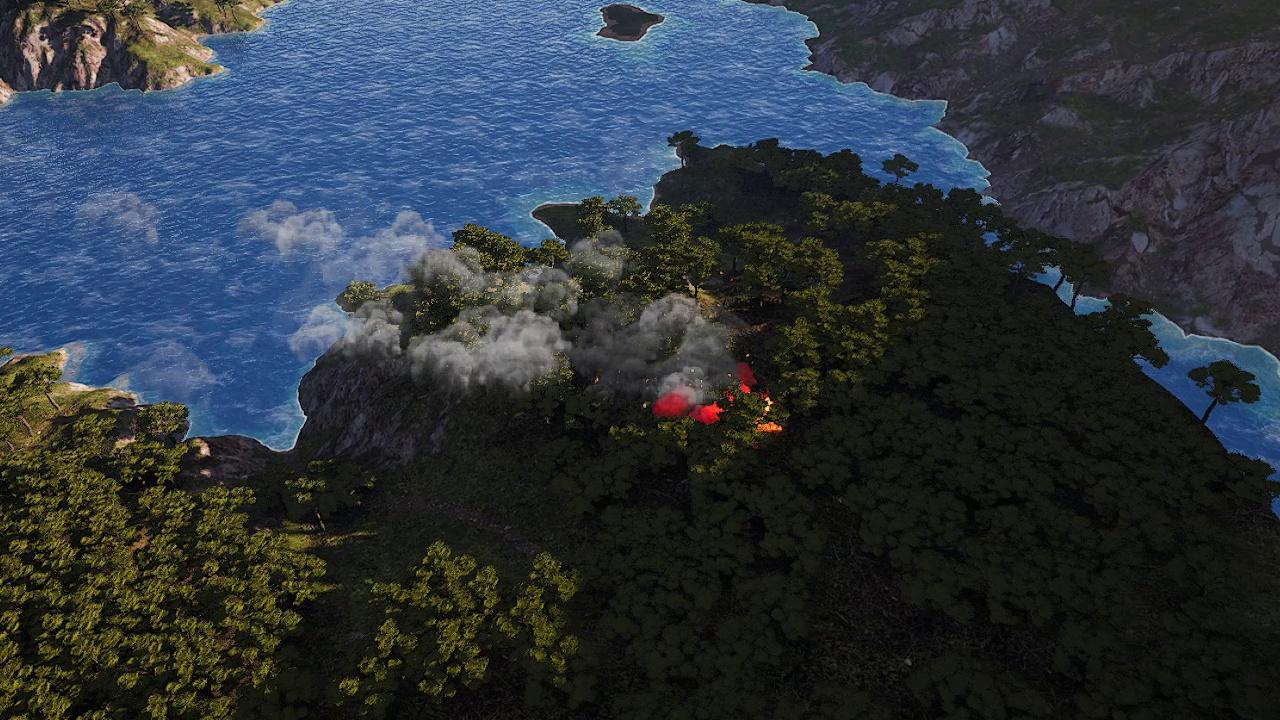fire: (651, 360, 783, 442)
smoke: (229, 201, 749, 423)
